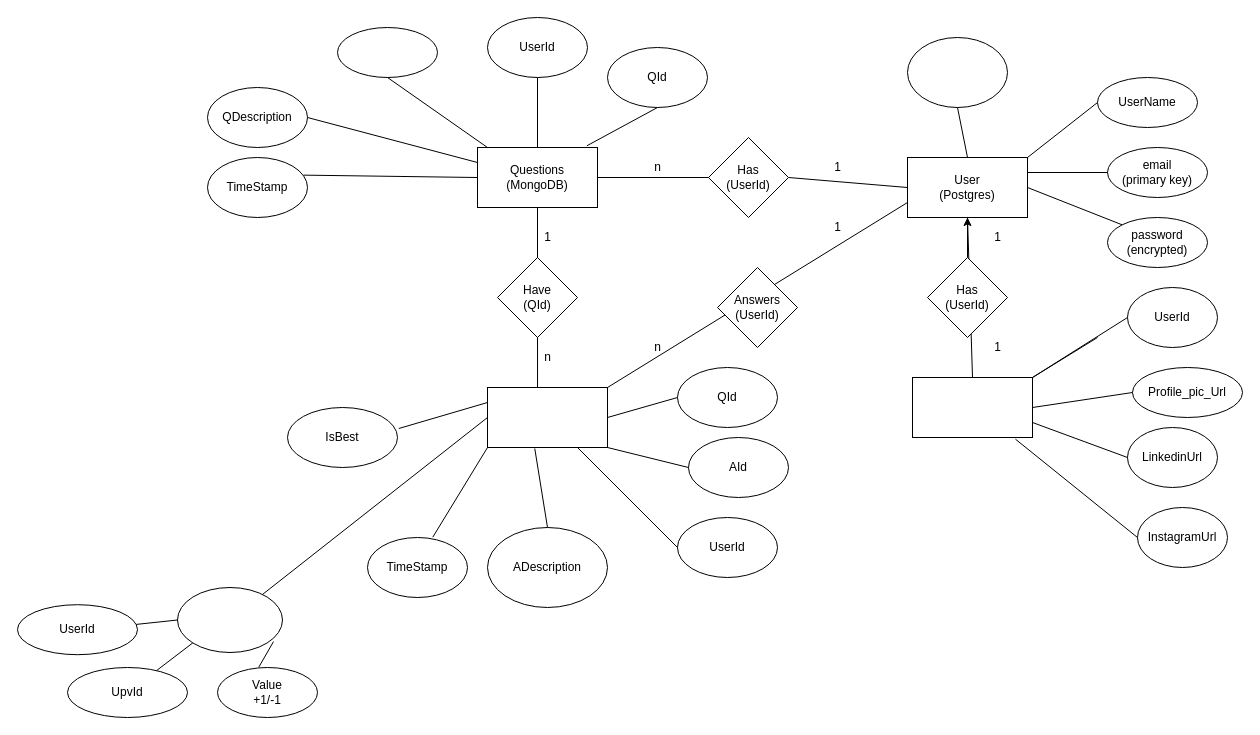
Image size: 1260x735. Some labels were removed from this diagram. The centre of each missing label's shape, as x and y in pixels:
"Answers (MongoDB)" belongs at [547,417].
"IsClosed" belongs at [387,52].
"Upvotes (JSON)" belongs at [229,619].
"User Details (Postgres)" belongs at [972,407].
"UserId (System generated-unique)" belongs at [957,72].
